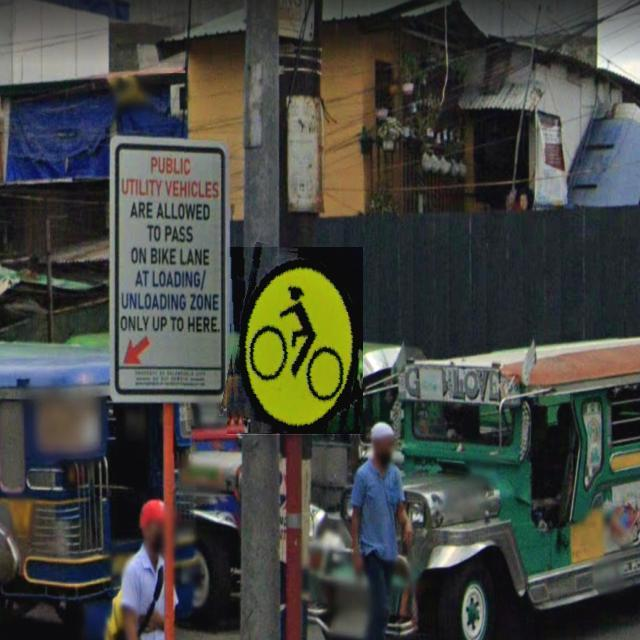bike lane: (227, 248, 363, 436)
